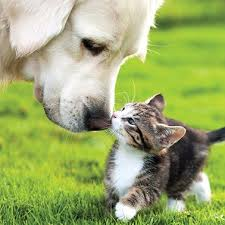cat: (106, 98, 221, 222)
dog: (1, 1, 111, 133)
